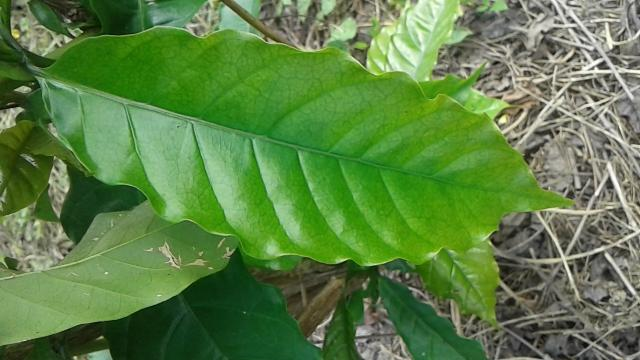healthy: (43, 34, 564, 267)
